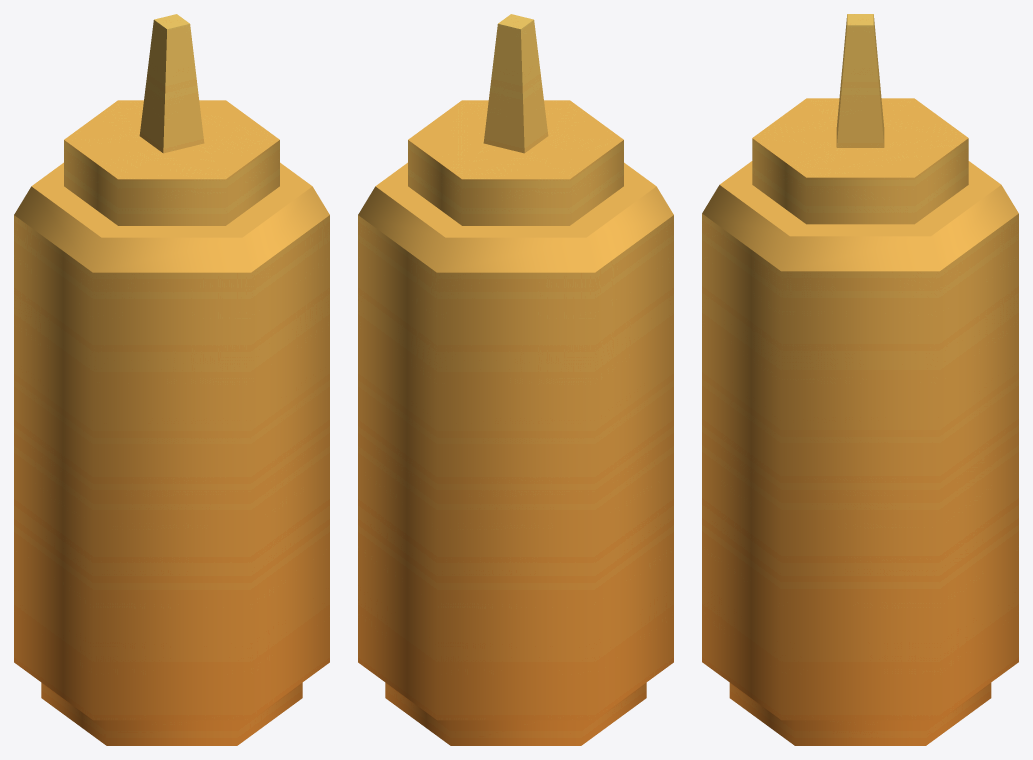
Rendered from bottle-musterd.glb.
The picture shows the model from 3 angles, left to right: view 1: azimuth 30°, elevation 25°; view 2: azimuth 150°, elevation 25°; view 3: azimuth 270°, elevation 25°; orthographic projection.
Parts seen in each view (by area): view 1: bottle-musterd; view 2: bottle-musterd; view 3: bottle-musterd.
Boxes of the visible parts, x1,y1,x2,y2 form: bottle-musterd: (14, 14, 329, 745); bottle-musterd: (358, 14, 673, 745); bottle-musterd: (702, 14, 1018, 745).
Size of the model in its own units: 0.1441 by 0.3931 by 0.1664.
1 material, 1 textured.
